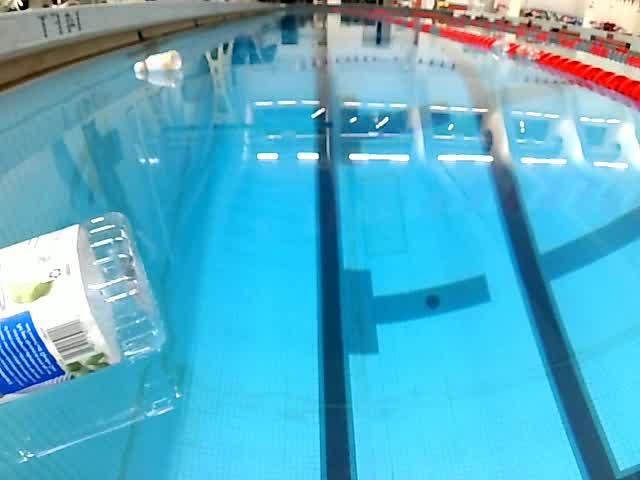Bottle: (0, 208, 174, 412), (128, 46, 190, 80)
